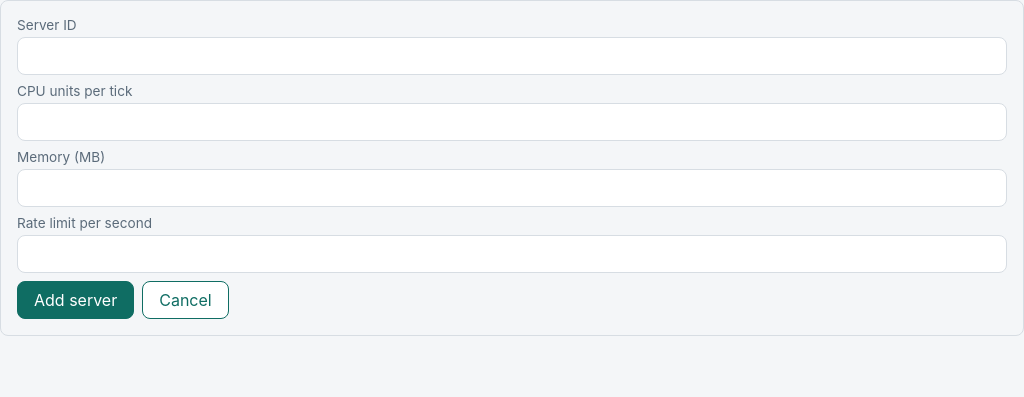
Scenario: ServerForm › rejects a negative rate limit value
In the field labelled "Server ID": (512, 56) [17,37,1007,75], type "s3"
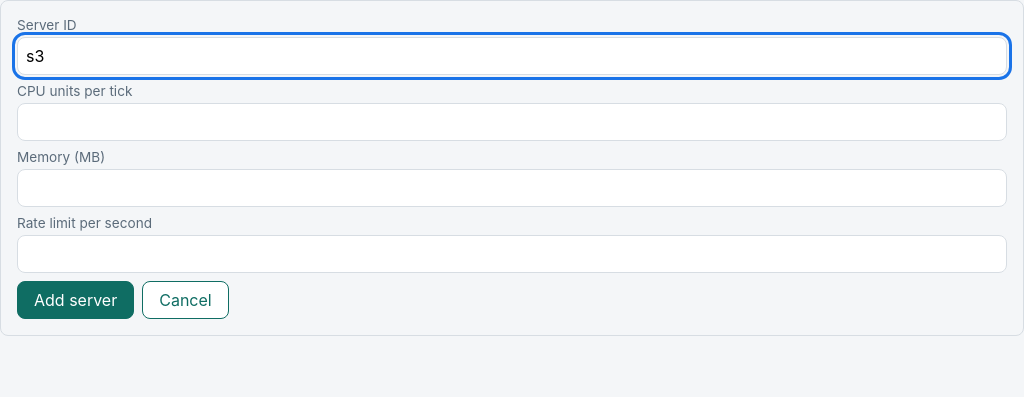
In the number field labelled "CPU units per tick": (512, 122) [17,103,1007,141], type "1"
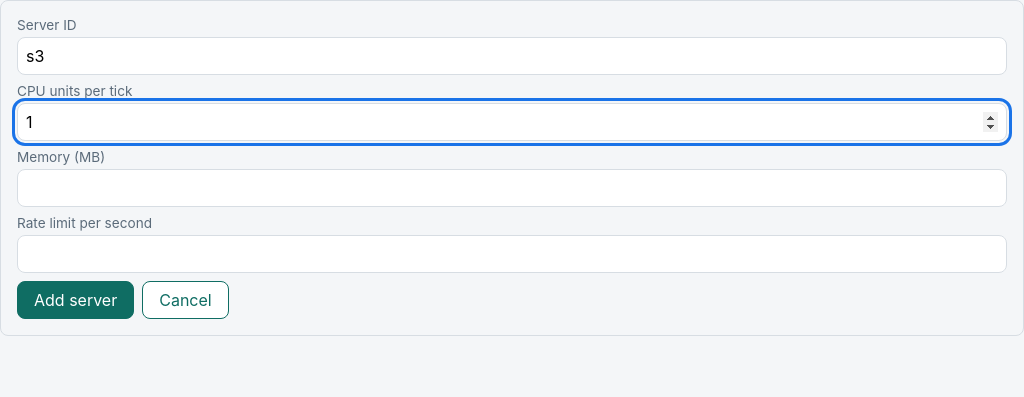
In the number field labelled "Memory (MB)": (512, 188) [17,169,1007,207], type "1"
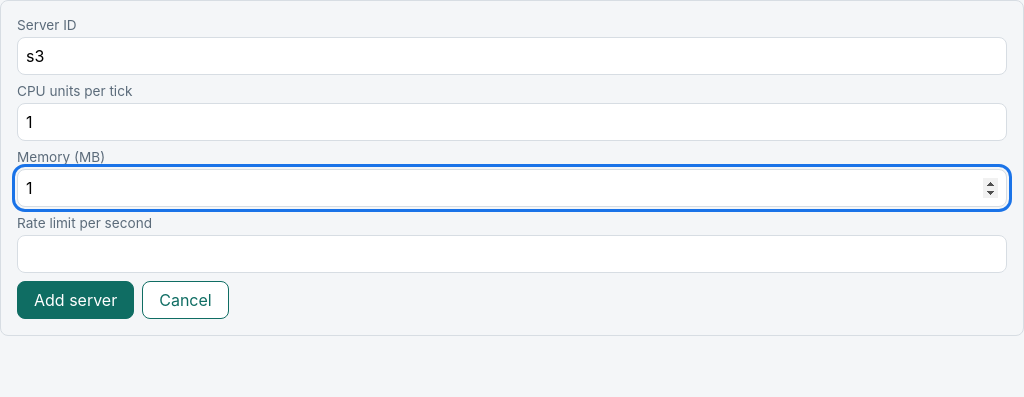
In the number field labelled "Rate limit per second": (512, 254) [17,235,1007,273], type "-1"
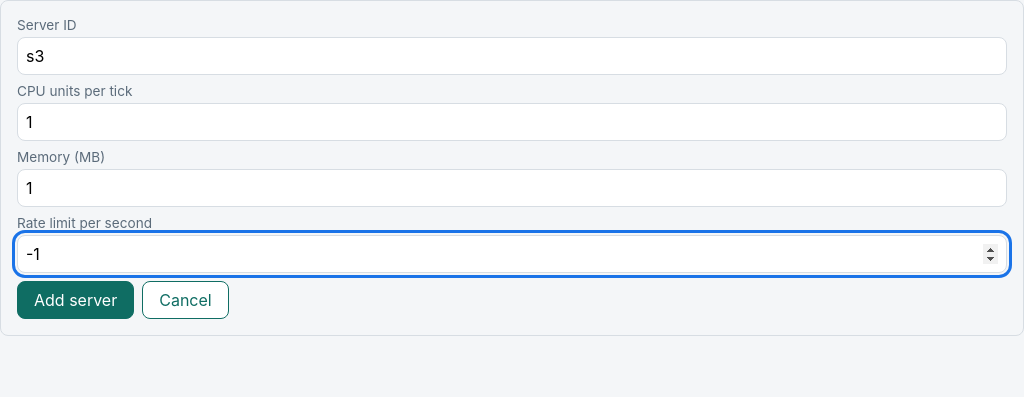
Click the button "Add server": (76, 300) [17,281,134,319]
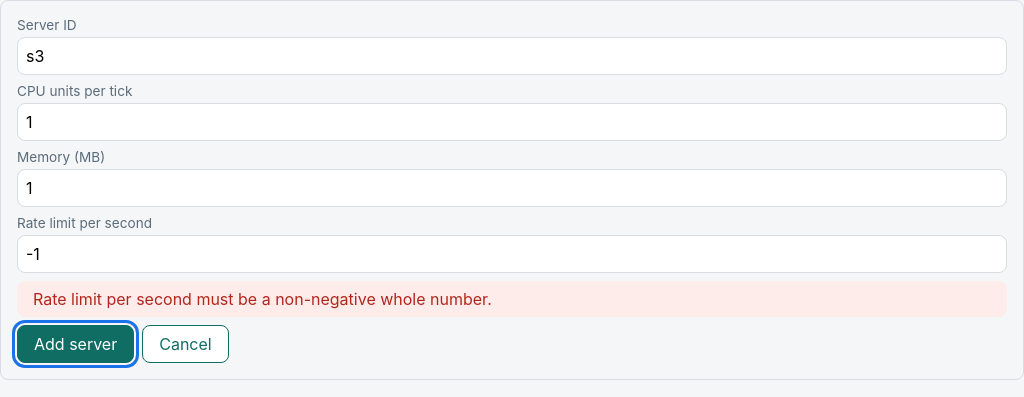
Result: the message shows "non-negative whole number" at [33,289,492,309]
